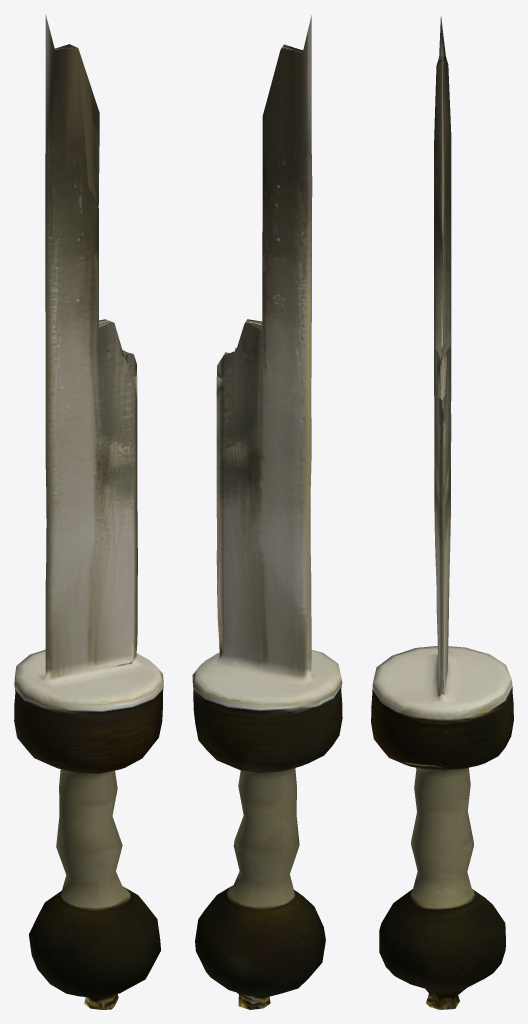
Rendered from sword0.glb.
3 views of the same model, side by side, from view 1: azimuth 30°, elevation 25°; view 2: azimuth 150°, elevation 25°; view 3: azimuth 270°, elevation 25° (orthographic). The views are drawn at different scales.
Parts seen in each view (by area): view 1: tripo_node_a8d80c73; view 2: tripo_node_a8d80c73; view 3: tripo_node_a8d80c73.
Boxes of the visible parts, x1=… form: tripo_node_a8d80c73: x1=14, y1=14, x2=163, y2=1009; tripo_node_a8d80c73: x1=192, y1=15, x2=342, y2=1009; tripo_node_a8d80c73: x1=371, y1=16, x2=513, y2=1009.
Bounding box in the file's own units: 0.1142 × 0.8279 × 0.1111.
1 material, 1 textured.
